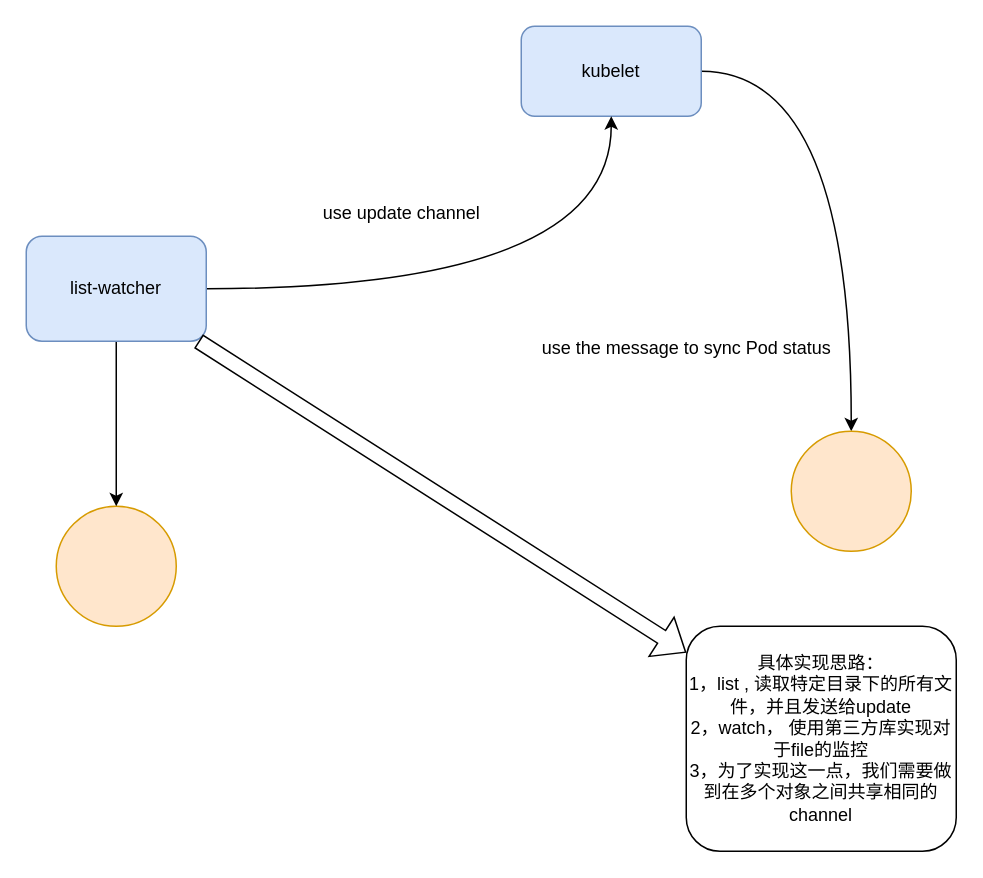
Image size: 983x878. Some labels were removed from this diagram. Each missing label, with the centre of its shape:
"files" belongs at [115,565].
"Pod" belongs at [850,490].
